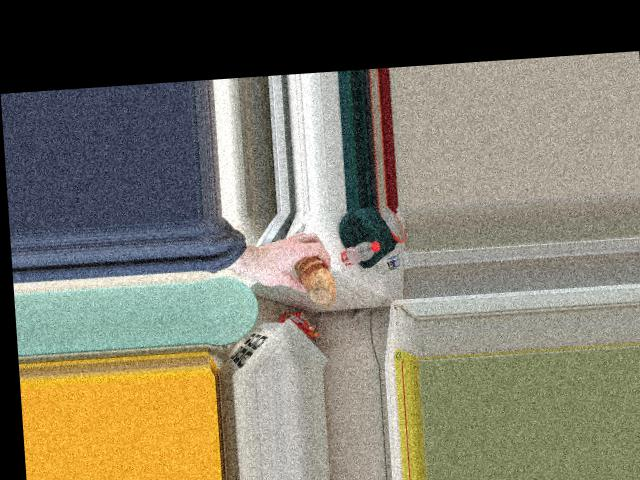sweet_potato: (294, 255, 336, 298)
